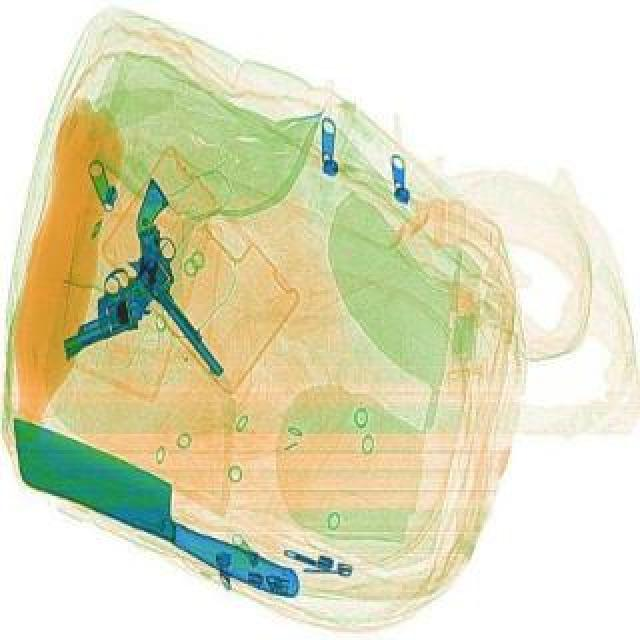gun: (90, 174, 272, 380), (38, 222, 202, 374)
knife: (0, 408, 326, 600)
